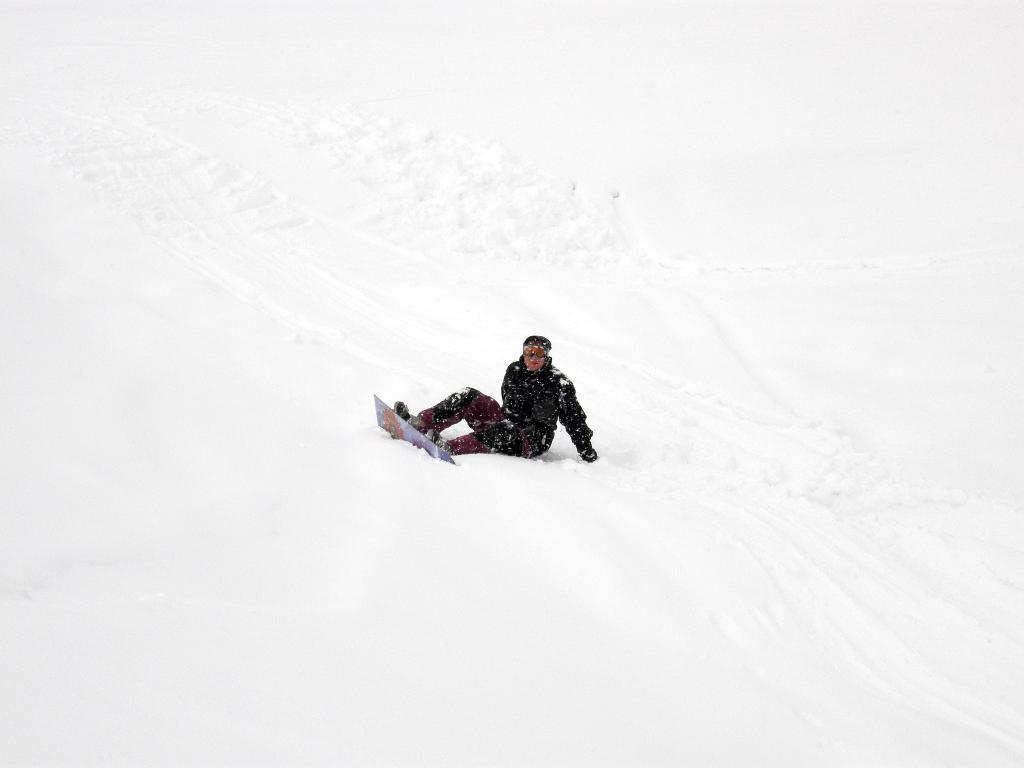Person: (372, 335, 597, 465)
